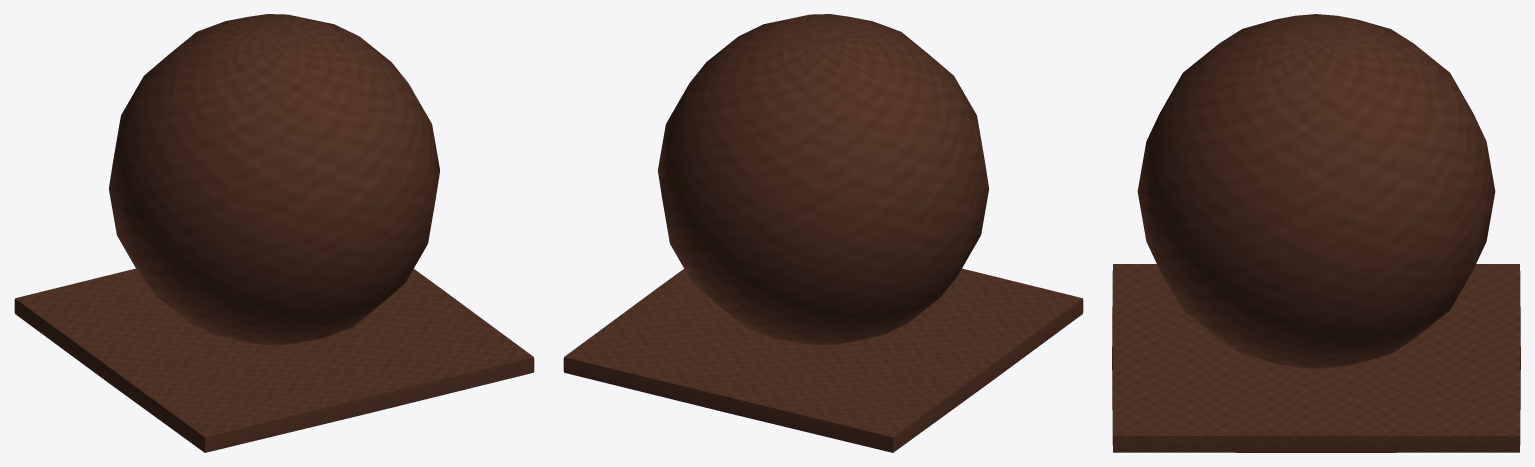
The picture shows the model from 3 angles, left to right: view 1: azimuth 30°, elevation 25°; view 2: azimuth 150°, elevation 25°; view 3: azimuth 270°, elevation 25°; orthographic projection. The views are drawn at different scales.
Parts seen in each view (by area): view 1: surface.0, surface.1; view 2: surface.0, surface.1; view 3: surface.0, surface.1.
Part boxes in pixels (x1=…): surface.0: x1=109, y1=14, x2=439, y2=345; surface.1: x1=14, y1=268, x2=534, y2=452; surface.0: x1=658, y1=14, x2=988, y2=345; surface.1: x1=563, y1=268, x2=1083, y2=452; surface.0: x1=1137, y1=14, x2=1495, y2=368; surface.1: x1=1112, y1=264, x2=1520, y2=452.
Bounding box in the file's own units: 0.8 × 0.73 × 0.8.
1 material, 1 textured.
